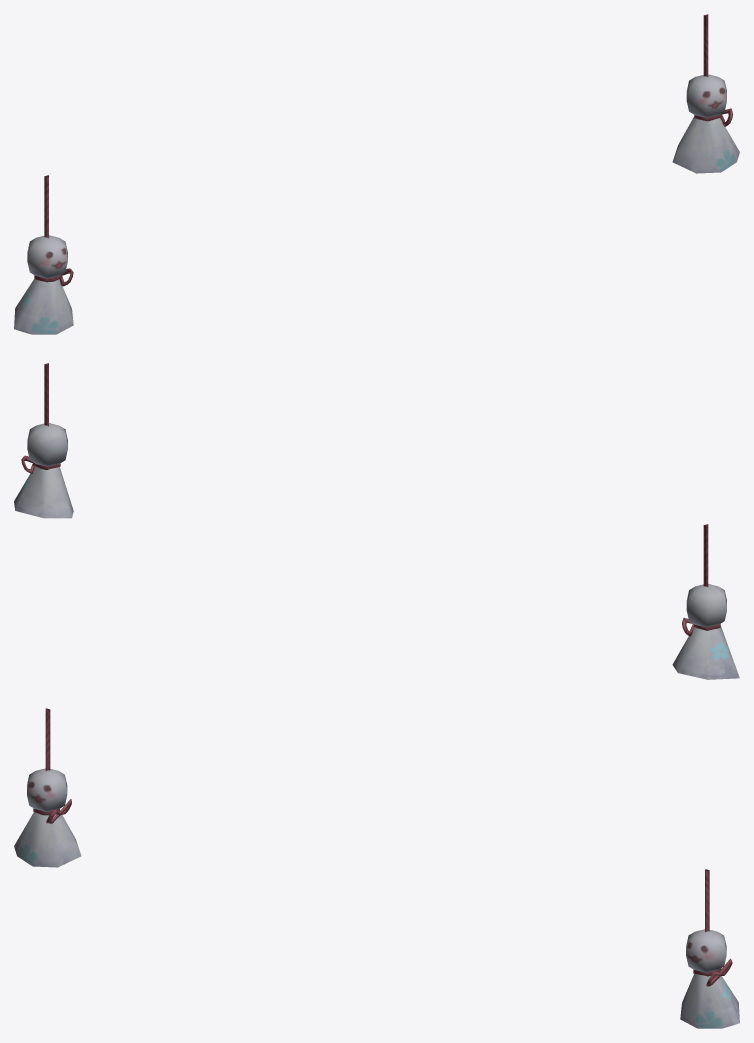
Rendered from Homeworld_Exterior_Dq_Build_TanWei_01_B_Vo.fbx.
3 views of the same model, one above another, from view 1: azimuth 30°, elevation 25°; view 2: azimuth 150°, elevation 25°; view 3: azimuth 330°, elevation 25° (orthographic).
Parts seen in each view (by area): view 1: Homeworld_Exterior_Dq_Build_TanWei_01_B_Vo; view 2: Homeworld_Exterior_Dq_Build_TanWei_01_B_Vo; view 3: Homeworld_Exterior_Dq_Build_TanWei_01_B_Vo.
Part boxes in pixels (x1,y1,x2,y2): Homeworld_Exterior_Dq_Build_TanWei_01_B_Vo: (14,14,739,334); Homeworld_Exterior_Dq_Build_TanWei_01_B_Vo: (14,363,739,679); Homeworld_Exterior_Dq_Build_TanWei_01_B_Vo: (14,708,739,1028).
Bounding box in the file's own units: 2.72 × 0.5351 × 0.1817.
